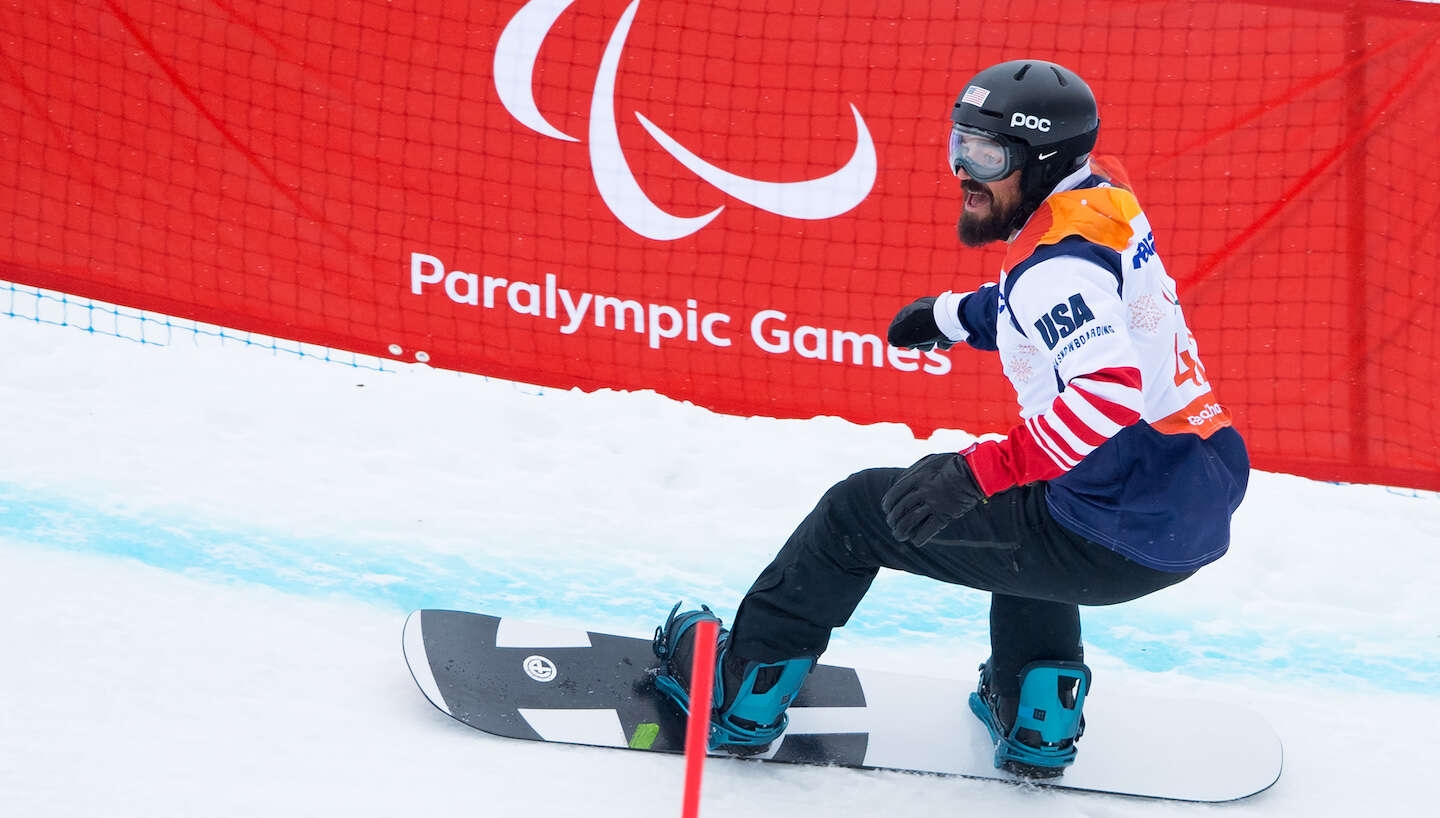snowboarder: (403, 61, 1286, 803)
